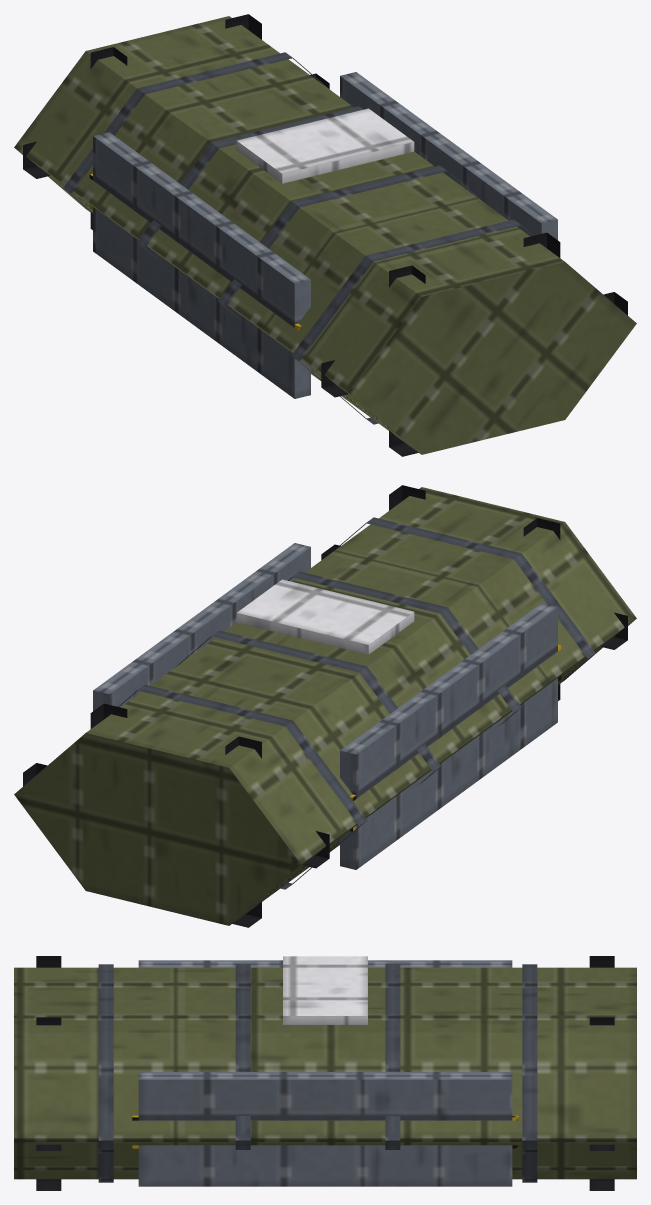
Rendered from ship_bulk_hold.obj.
The picture shows the model from 3 angles, top to bottom: view 1: azimuth 30°, elevation 25°; view 2: azimuth 150°, elevation 25°; view 3: azimuth 270°, elevation 25°; orthographic projection. The views are drawn at different scales.
Parts seen in each view (by area): view 1: shell, doors, ribs, stencil, locks; view 2: shell, doors, ribs, stencil, locks; view 3: shell, doors, ribs, stencil, locks.
Part boxes in pixels (left/top/right/bottom): shell: left=14, top=16, right=636, bottom=454; doors: left=93, top=72, right=557, bottom=398; ribs: left=63, top=52, right=533, bottom=424; stencil: left=236, top=108, right=414, bottom=183; locks: left=23, top=14, right=627, bottom=456; shell: left=14, top=487, right=636, bottom=925; doors: left=93, top=543, right=557, bottom=869; ribs: left=118, top=517, right=595, bottom=889; stencil: left=236, top=579, right=414, bottom=654; locks: left=23, top=485, right=627, bottom=927; shell: left=14, top=967, right=636, bottom=1179; doors: left=138, top=960, right=512, bottom=1186; ribs: left=98, top=964, right=537, bottom=1182; stencil: left=283, top=956, right=367, bottom=1024; locks: left=36, top=956, right=614, bottom=1190.
Bounding box in the file's own units: 2.55 × 1.5 × 5.
Materials: 6 (6 with a texture image).
